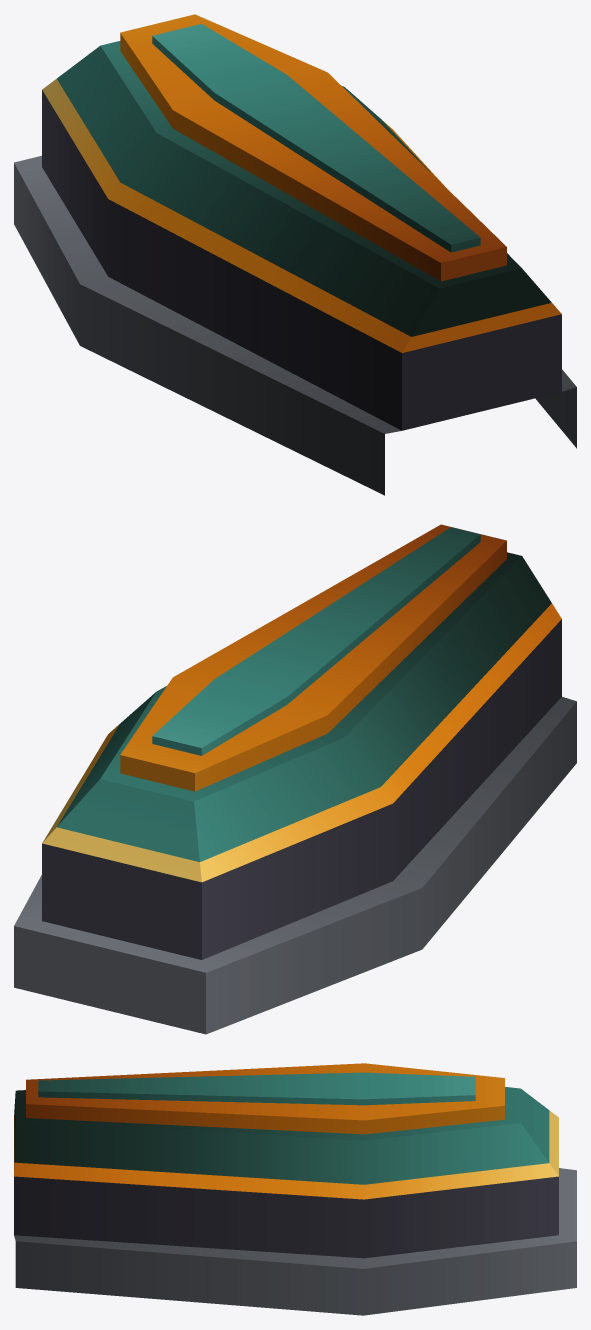
Rendered from Tomb 02.FBX.
3 views of the same model, one above another, from view 1: azimuth 30°, elevation 25°; view 2: azimuth 150°, elevation 25°; view 3: azimuth 270°, elevation 25° (orthographic). The views are drawn at different scales.
Parts seen in each view (by area): view 1: Tomb 02 Cover, Tomb 02; view 2: Tomb 02 Cover, Tomb 02; view 3: Tomb 02, Tomb 02 Cover.
Part boxes in pixels (<box>): Tomb 02 Cover: <box>42,14,561,352</box>; Tomb 02: <box>14,90,576,495</box>; Tomb 02 Cover: <box>42,524,561,882</box>; Tomb 02: <box>14,619,576,1034</box>; Tomb 02: <box>14,1168,576,1315</box>; Tomb 02 Cover: <box>14,1063,558,1199</box>.
Bounding box in the file's own units: 138 × 84.65 × 259.
